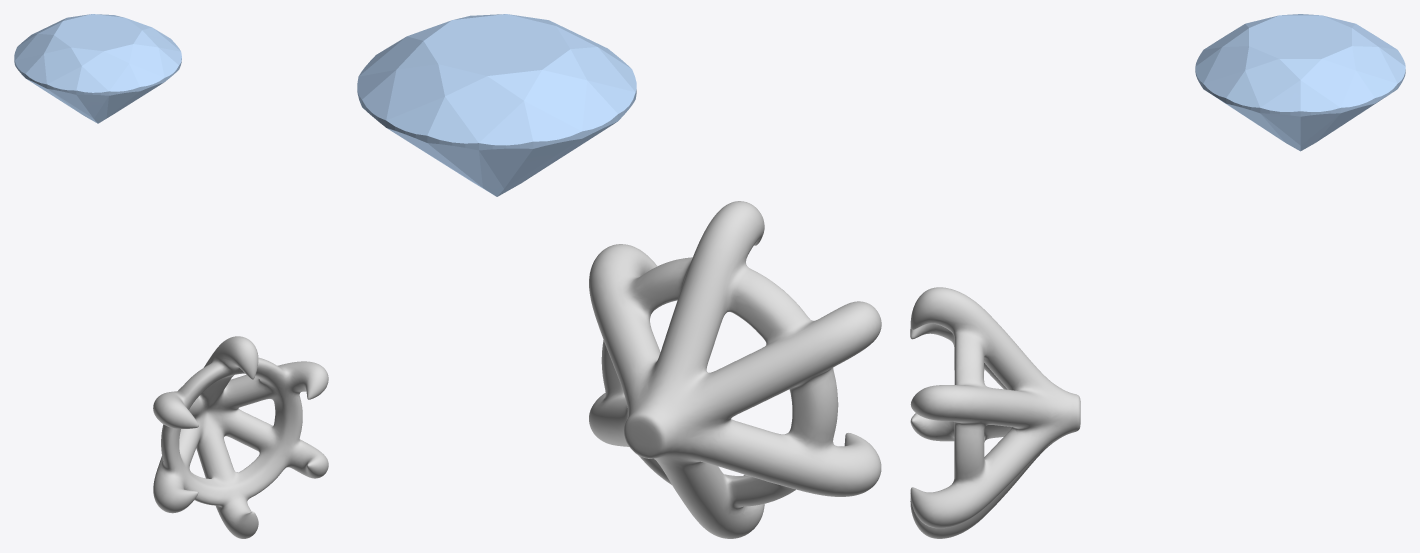
Rendered from 6 Prong Round_3.00ct.glb.
The picture shows the model from 3 angles, left to right: view 1: azimuth 30°, elevation 25°; view 2: azimuth 150°, elevation 25°; view 3: azimuth 270°, elevation 25°; orthographic projection. The views are drawn at different scales.
Parts seen in each view (by area): view 1: _0.005, Diamond_Round; view 2: _0.005, Diamond_Round; view 3: _0.005, Diamond_Round.
Part boxes in pixels (x1,y1,x2,y2): _0.005: [153, 336, 328, 538]; Diamond_Round: [14, 14, 181, 123]; _0.005: [589, 201, 881, 538]; Diamond_Round: [357, 14, 636, 196]; _0.005: [910, 287, 1080, 538]; Diamond_Round: [1195, 14, 1405, 151].
Bounding box in the file's own units: 10.88 × 24.8 × 22.26.
